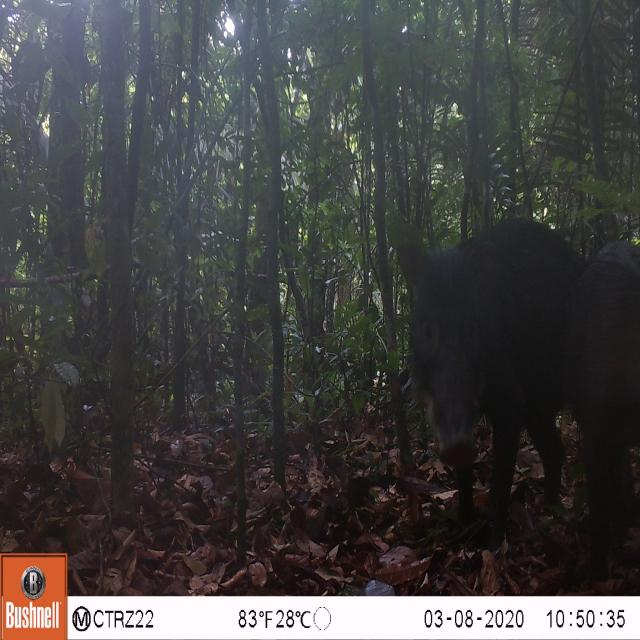White-lipped Peccary: (380, 209, 583, 543), (560, 228, 640, 565)
